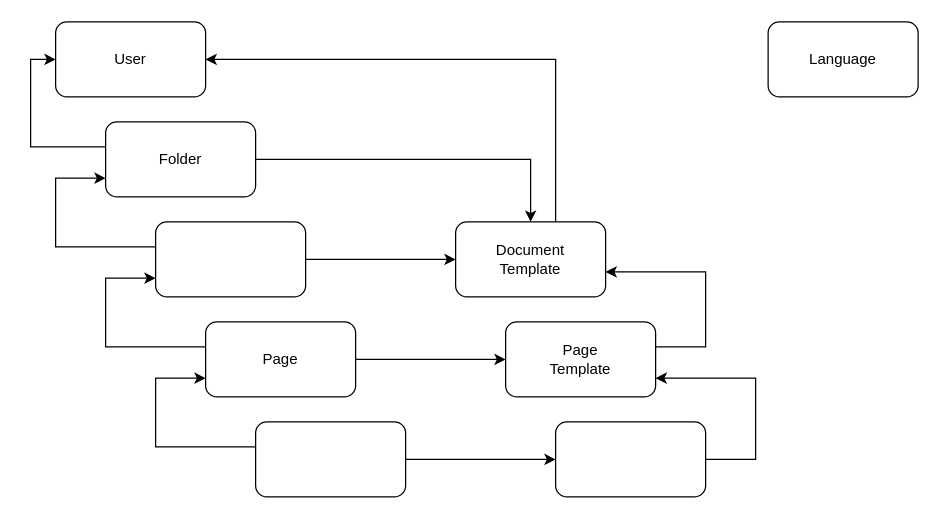
The diagram is 940 pixels wide and 519 high, and some of its shapes have lost their labels. The shapes that lost their labels are listed below. From the top down, each one's centre as x and y in pixels, then its label:
(230,259): Document
(330,459): Fragment
(630,459): Fragment Template
